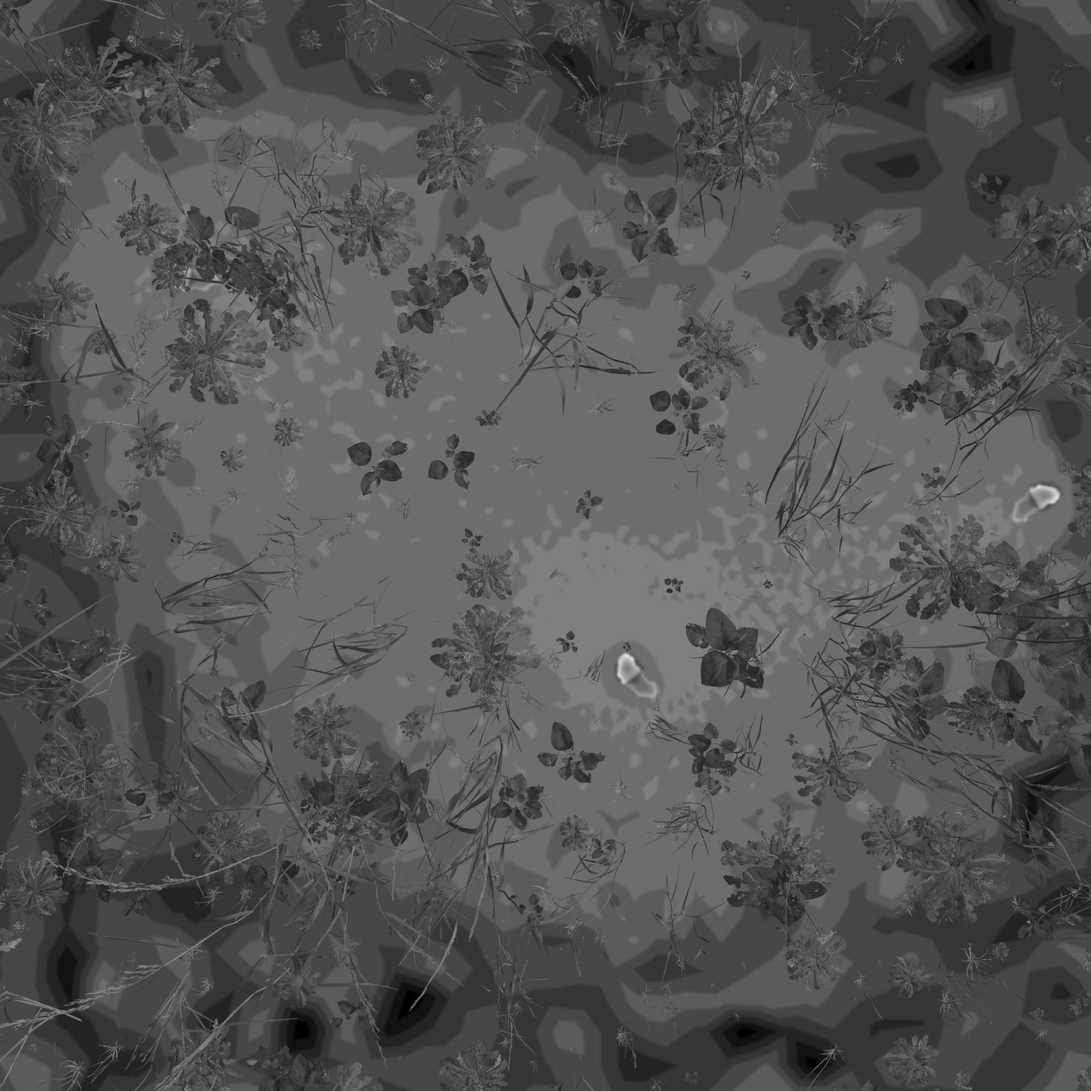landmine: (1008, 482, 1066, 530), (613, 651, 662, 704)
